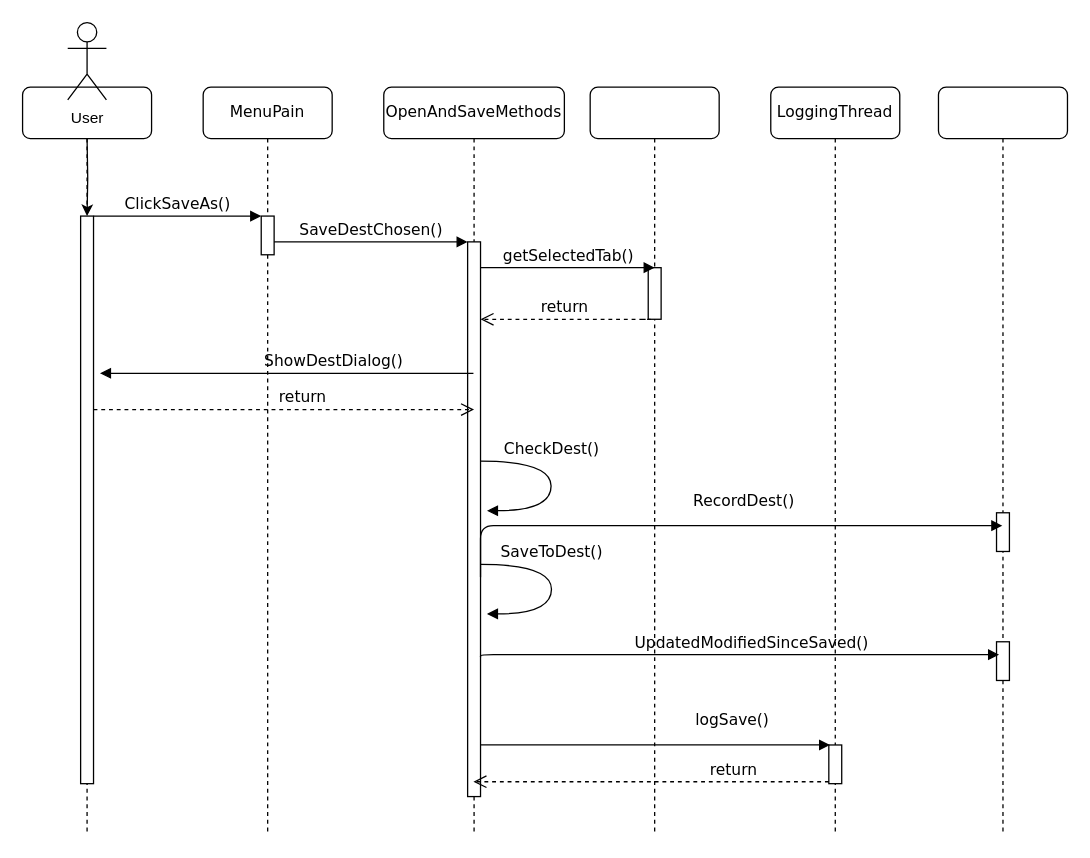
The diagram is 1090 pixels wide and 858 high, and some of its shapes have lost their labels. The shapes that lost their labels are listed below. From the top down, each one's box as (x1, y1, x2, y2) in pixels, then its label:
(589, 86, 719, 835): TabPane
(937, 86, 1067, 835): TabPain
